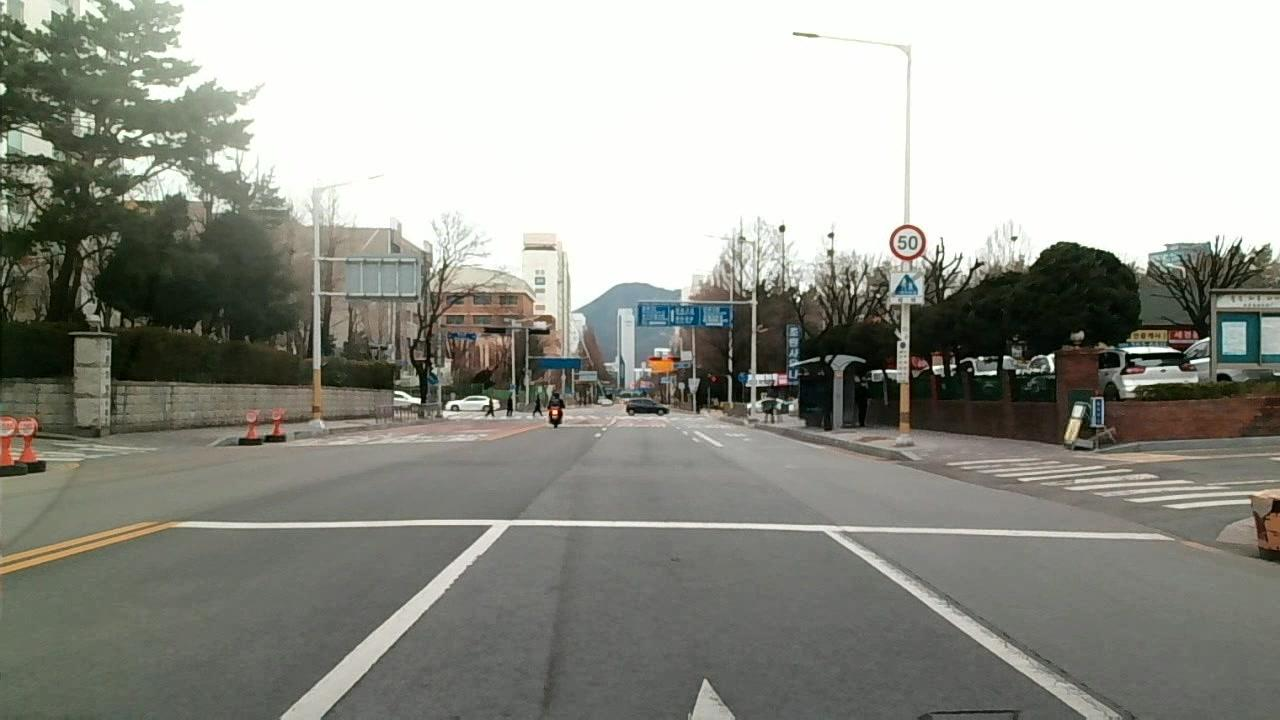banner: (918, 574, 1136, 720)
